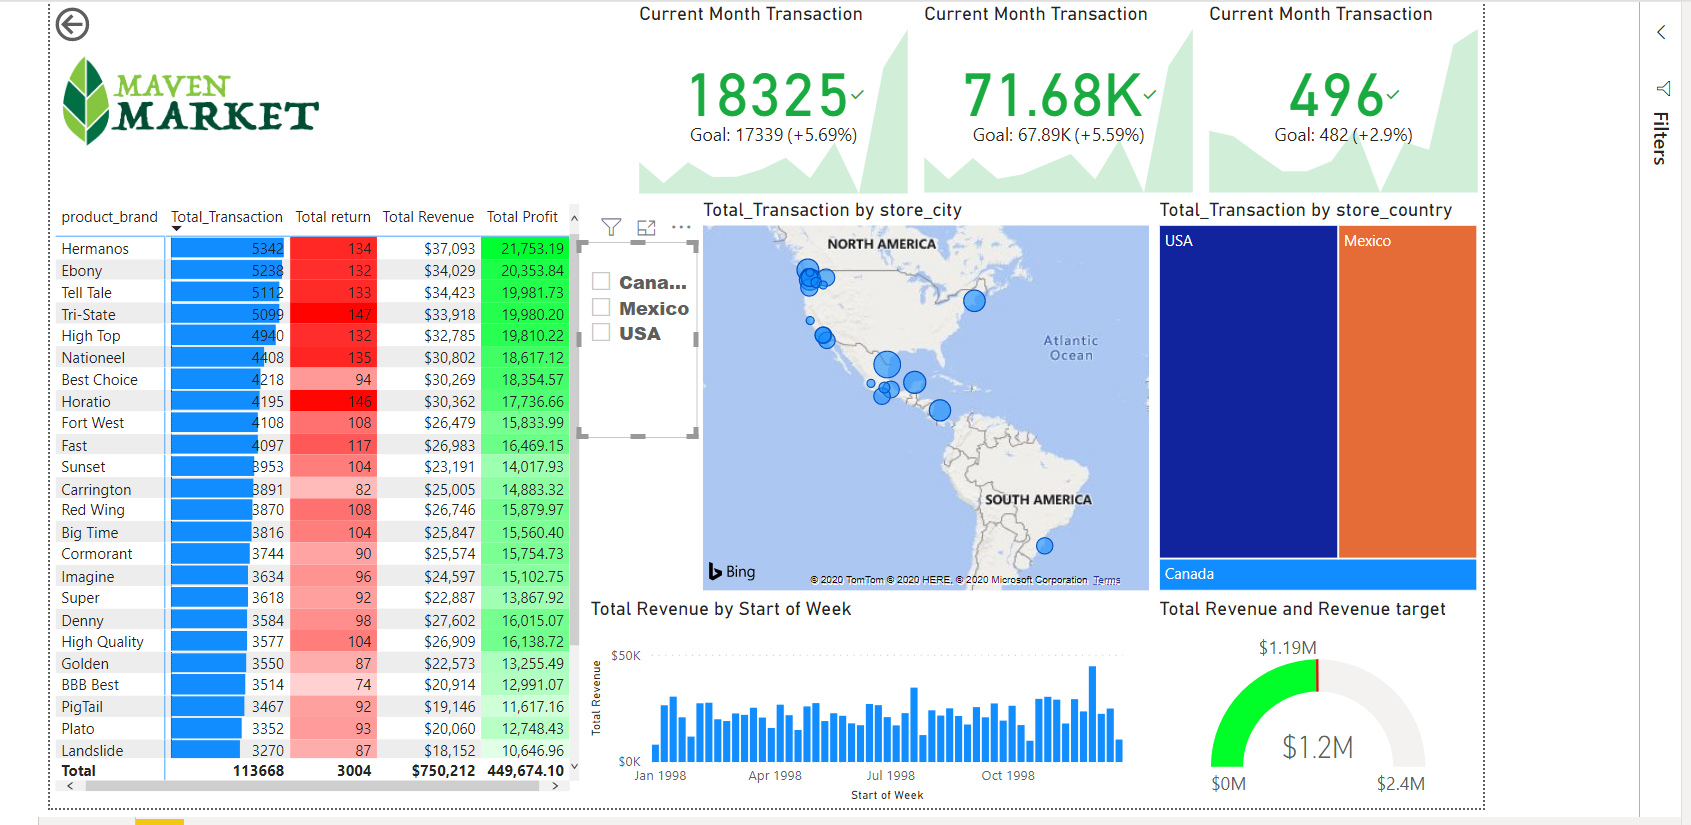

Layout of this report page (visuals, bound fields, positions):
{"tool":"powerbi","page":{"name":"Page 1","canvas":[1280,720],"ordinal":0},"visuals":[{"type":"image","box":[0,0,250,175.8],"z":0},{"type":"pivotTable","fields":{"Values":["MM_TRANSACTIONS_1997-98.Total_Transaction","MM_Returns_1997-1998.Total return","MM_TRANSACTIONS_1997-98.Total Revenue","MM_TRANSACTIONS_1997-98.Total Profit"],"Rows":["MM_Products.product_brand"]},"box":[0,175.8,477.9,534.2],"z":1000},{"type":"actionButton","box":[0,0,100,40],"z":2000},{"type":"kpi","title":"Current Month Transaction","fields":{"Indicator":["MM_TRANSACTIONS_1997-98.Total_Transaction"],"Goal":["MM_TRANSACTIONS_1997-98.Last month tx"],"TrendLine":["MM_Calendar.Start of Month"]},"box":[521,0,250,176],"z":3000},{"type":"kpi","title":"Current Month Transaction","fields":{"TrendLine":["MM_Calendar.Start of Month"],"Indicator":["MM_TRANSACTIONS_1997-98.Total Profit"],"Goal":["MM_TRANSACTIONS_1997-98.Last month profit"]},"box":[775.5,0,250,175.8],"z":4000},{"type":"kpi","title":"Current Month Transaction","fields":{"TrendLine":["MM_Calendar.Start of Month"],"Indicator":["MM_Returns_1997-1998.Total return"],"Goal":["MM_Returns_1997-1998.Last month return"]},"box":[1030,0,250,175.8],"z":5000},{"type":"map","fields":{"Category":["MM_Stores.store_city"],"Size":["MM_TRANSACTIONS_1997-98.Total_Transaction"]},"box":[578.2,175.8,407.9,355.7],"z":6000},{"type":"treemap","fields":{"Values":["MM_TRANSACTIONS_1997-98.Total_Transaction"],"Group":["MM_Stores.store_country","MM_Stores.store_state","MM_Stores.store_city"]},"box":[986.1,175.8,293.9,355.7],"z":7000},{"type":"slicer","fields":{"Values":["MM_Stores.store_country"]},"box":[471.1,214.2,107.1,175.8],"z":8000},{"type":"clusteredColumnChart","fields":{"Y":["MM_TRANSACTIONS_1997-98.Total Revenue"],"Category":["MM_Calendar.Start of Week"]},"box":[477.9,531.5,508.2,188.2],"z":8001},{"type":"gauge","fields":{"Y":["MM_TRANSACTIONS_1997-98.Total Revenue"],"TargetValue":["MM_TRANSACTIONS_1997-98.Revenue target"]},"box":[986.1,531.5,293.9,188.2],"z":8002}]}

Visuals, with their boxes on the page's 1280x720 design canvas (x1, y1, x2, y2). These are canvas units, not pixel positions in the 1691x825 screenshot, which may show the page scaled, cropped or inside an application window:
image: 0, 0, 250, 176
pivotTable - MM_TRANSACTIONS_1997-98.Total_Transaction x MM_Returns_1997-1998.Total return: 0, 176, 478, 710
actionButton: 0, 0, 100, 40
"Current Month Transaction" kpi: 521, 0, 771, 176
"Current Month Transaction" kpi: 776, 0, 1026, 176
"Current Month Transaction" kpi: 1030, 0, 1280, 176
map - MM_Stores.store_city x MM_TRANSACTIONS_1997-98.Total_Transaction: 578, 176, 986, 532
treemap - MM_TRANSACTIONS_1997-98.Total_Transaction x MM_Stores.store_country: 986, 176, 1280, 532
slicer - MM_Stores.store_country: 471, 214, 578, 390
clusteredColumnChart - MM_TRANSACTIONS_1997-98.Total Revenue x MM_Calendar.Start of Week: 478, 532, 986, 720
gauge - MM_TRANSACTIONS_1997-98.Total Revenue x MM_TRANSACTIONS_1997-98.Revenue target: 986, 532, 1280, 720
